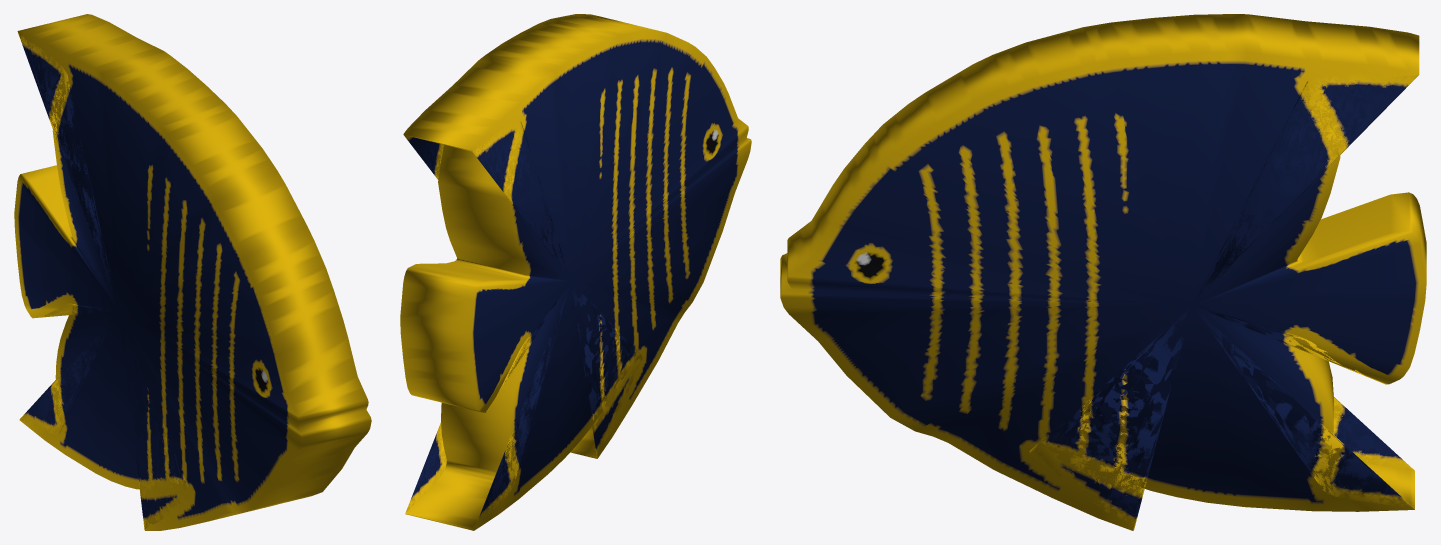
The model's file is frenchangelfish.glb.
3 views of the same model, side by side, from view 1: azimuth 30°, elevation 25°; view 2: azimuth 150°, elevation 25°; view 3: azimuth 270°, elevation 25° (orthographic). The views are drawn at different scales.
Visible parts, largest first — view 1: frenchangelfish; view 2: frenchangelfish; view 3: frenchangelfish.
Part boxes in pixels (<box>): frenchangelfish: <box>14,14,371,530</box>; frenchangelfish: <box>400,14,751,530</box>; frenchangelfish: <box>780,14,1426,530</box>.
Size of the model in its own units: 0.2383 by 1.39 by 1.7.
